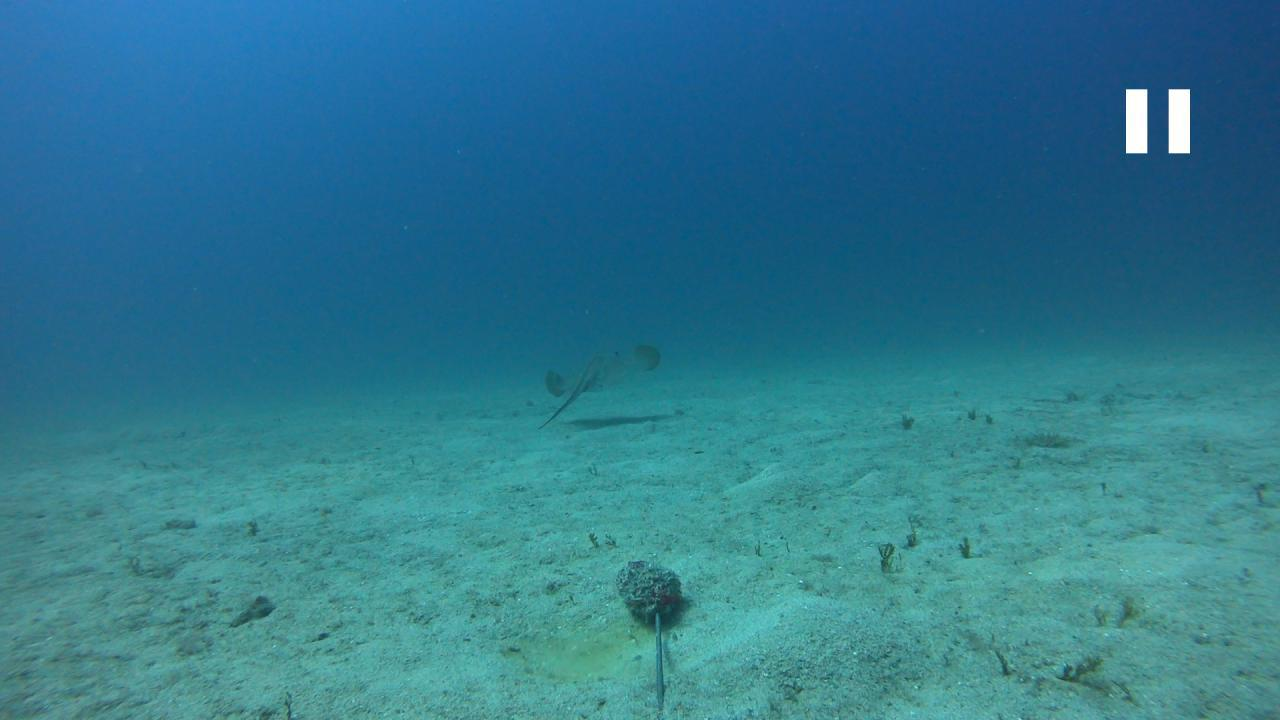dasyatis: (536, 338, 661, 430)
